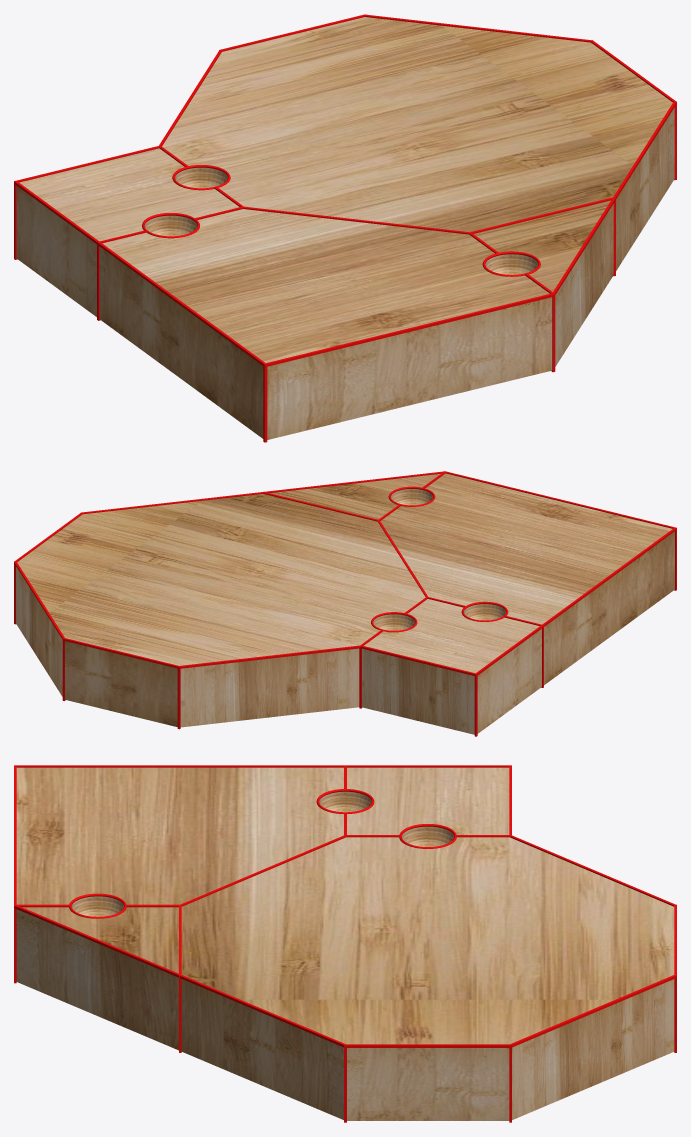
File: floor1Architecture.fbx
3 views of the same model, one above another, from view 1: azimuth 30°, elevation 25°; view 2: azimuth 150°, elevation 25°; view 3: azimuth 270°, elevation 25° (orthographic). The views are drawn at different scales.
Visible parts, largest first — view 1: Cube, frame; view 2: Cube, frame; view 3: Cube, frame.
Part boxes in pixels (box(x1,y1,x2,y2)): Cube: box(16, 17, 674, 439); frame: box(14, 14, 676, 442); Cube: box(16, 473, 674, 734); frame: box(14, 471, 676, 736); Cube: box(16, 767, 674, 1120); frame: box(14, 765, 676, 1122).
Bounding box in the file's own units: 2410 × 310 × 2410.
2 materials, 1 textured.
